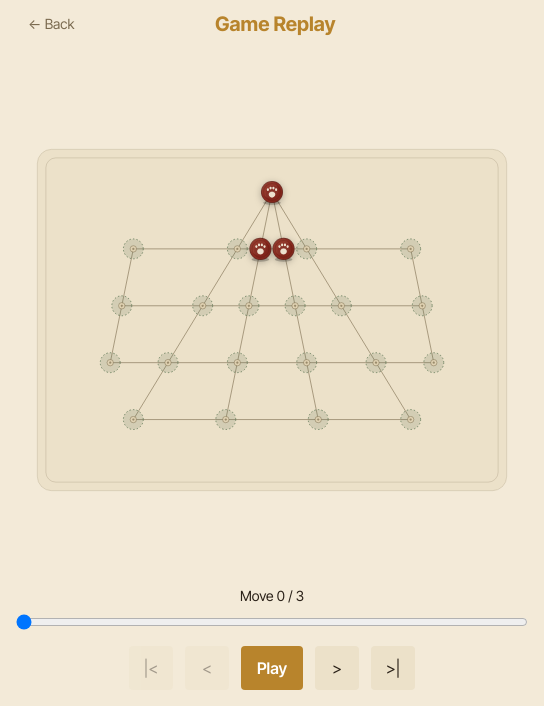
Scenario: ReplayScreen › step forward advances to next state
Click the button with test id "replay-next" at coordinates (337, 668), box x1=315 y1=646 x2=359 y2=690
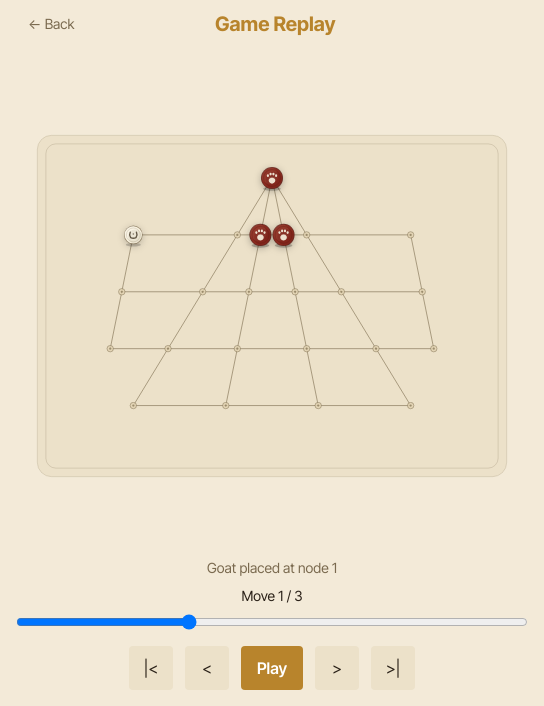
Check: the text "Move 1 / 3" is shown, box x1=242 y1=586 x2=302 y2=606
